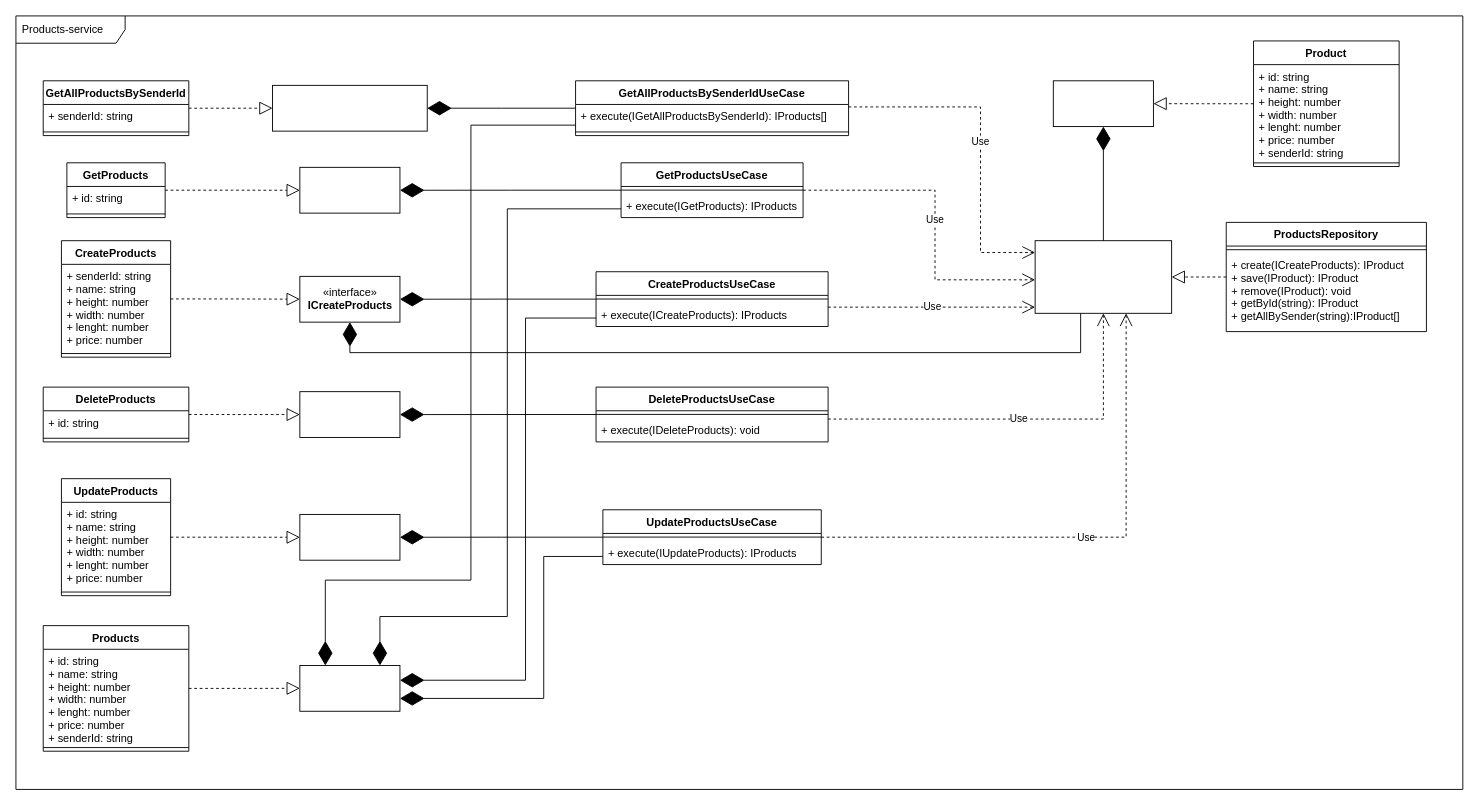
Image size: 1479x805. Some labels were removed from this diagram. Each missing label, with the centre of its shape:
"«interface» IDeleteProducts" goes at (x=349, y=414).
"«interface» IGetAllProductsBySenderId" goes at (x=349, y=107).
"«interface» IGetProducts" goes at (x=349, y=189).
"«interface» IProduct" goes at (x=1102, y=103).
"«interface» IProducts" goes at (x=349, y=688).
"«interface» IProductsRepository" goes at (x=1103, y=276).
"«interface» IUpdateProducts" goes at (x=349, y=537).
